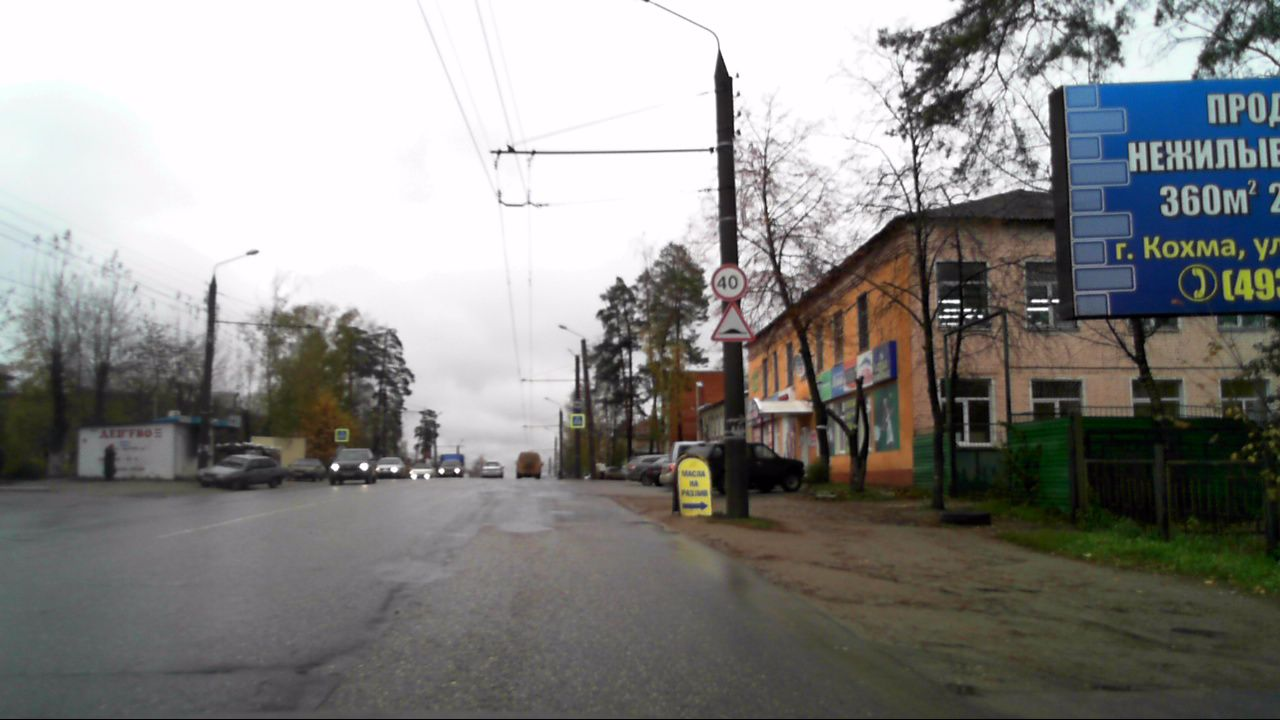speed_warning_40: (711, 264, 747, 301)
